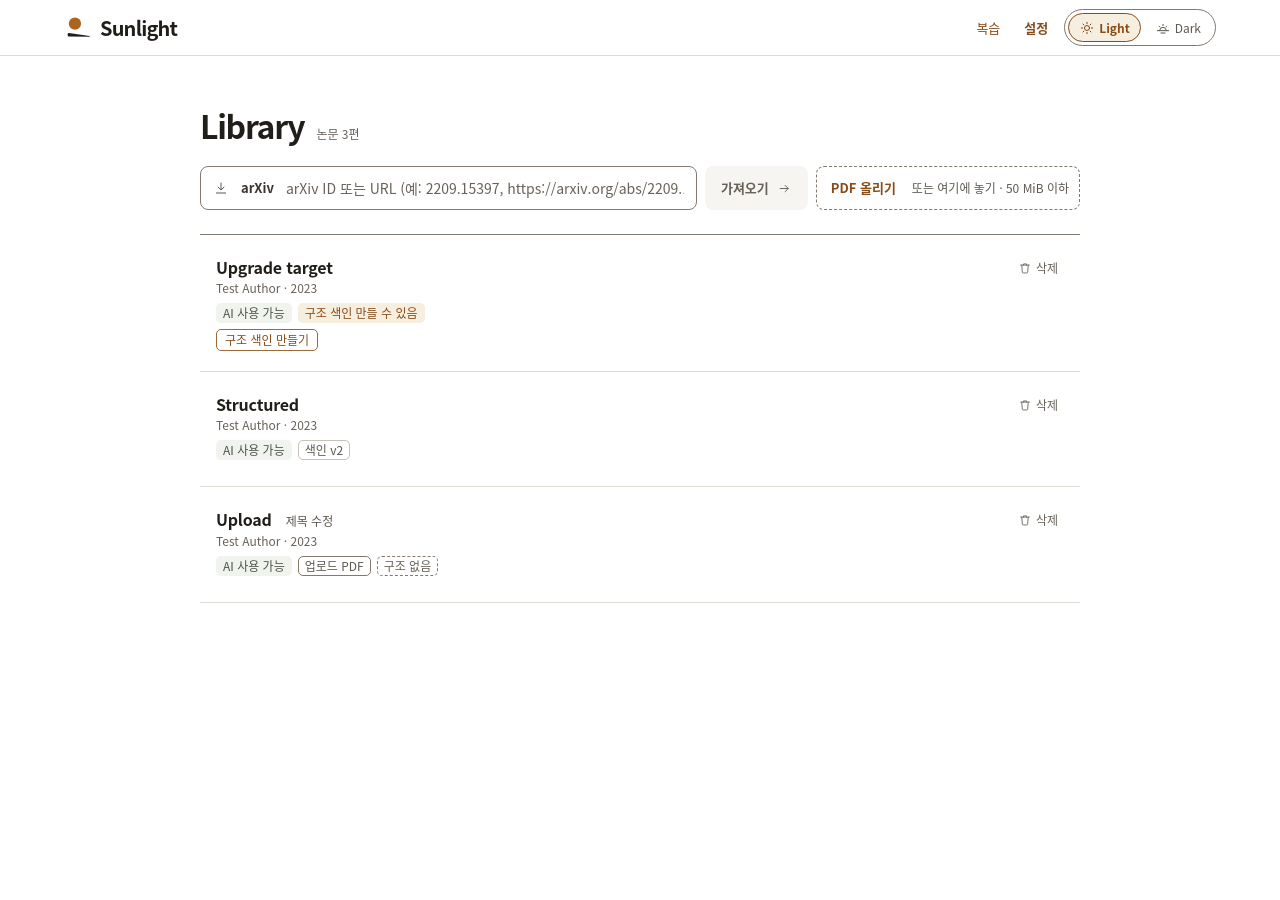
it: upgrade flow › transient failure: job error code + message (arXiv resume time as given) and the button again
This screenshot has width=1280, height=900.
Click the button with test id "rd-upgrade-button": click(267, 340) top-left (216, 329), bottom-right (318, 351)
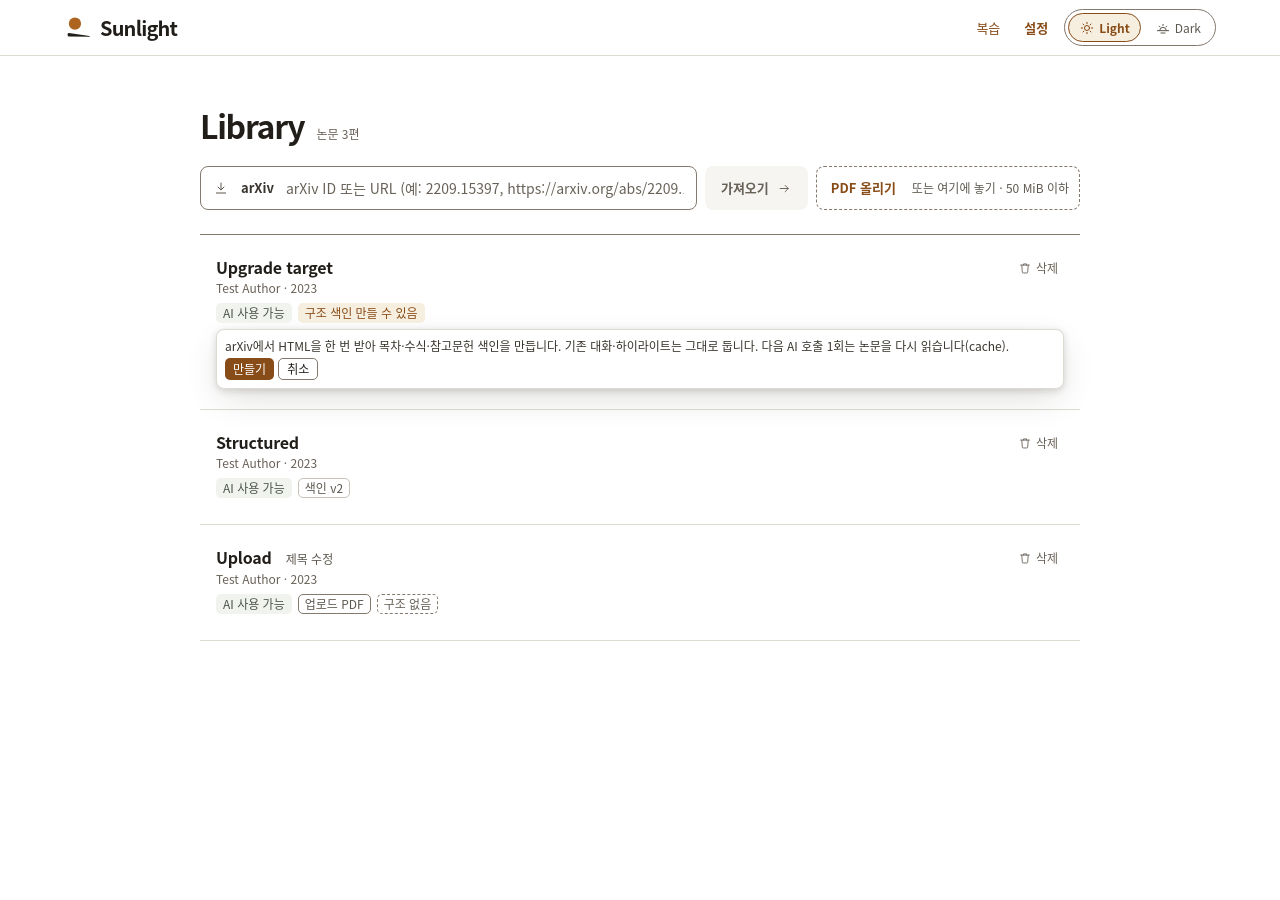
Click the button with test id "rd-upgrade-confirm-yes": click(250, 369) top-left (225, 358), bottom-right (274, 380)
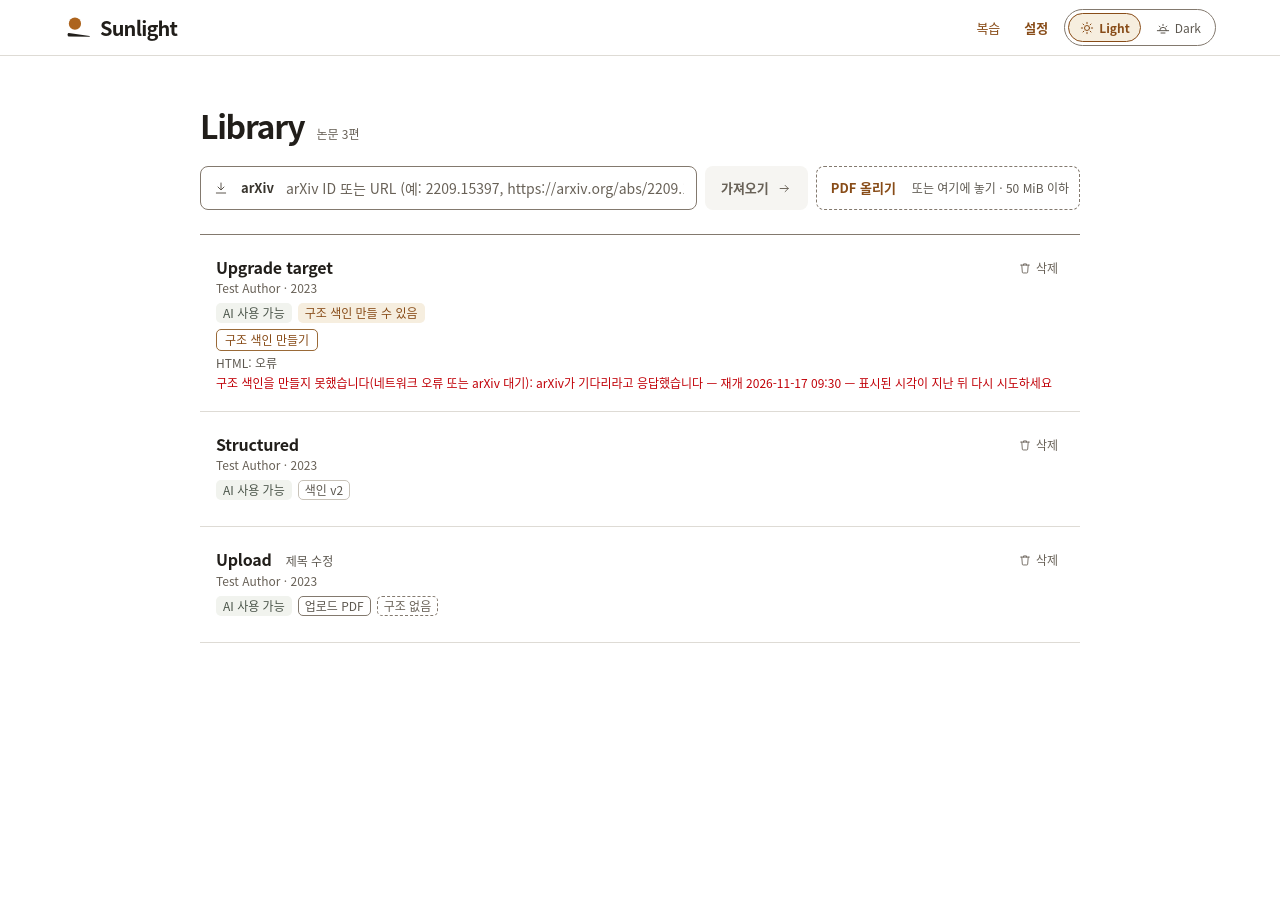
Expected: the message with test id "rd-upgrade-error" shows "2026-11-17 09:30", top-left (216, 374), bottom-right (1052, 391)
Expected: the message with test id "rd-upgrade-error" shows "표시된 시각이 지난 뒤 다시 시도하세요", top-left (216, 374), bottom-right (1052, 391)
Expected: the button with test id "rd-upgrade-button" is shown, top-left (216, 329), bottom-right (318, 351)
